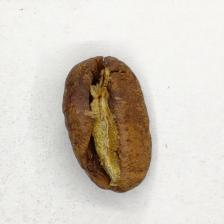NG: (72, 66, 134, 188)
